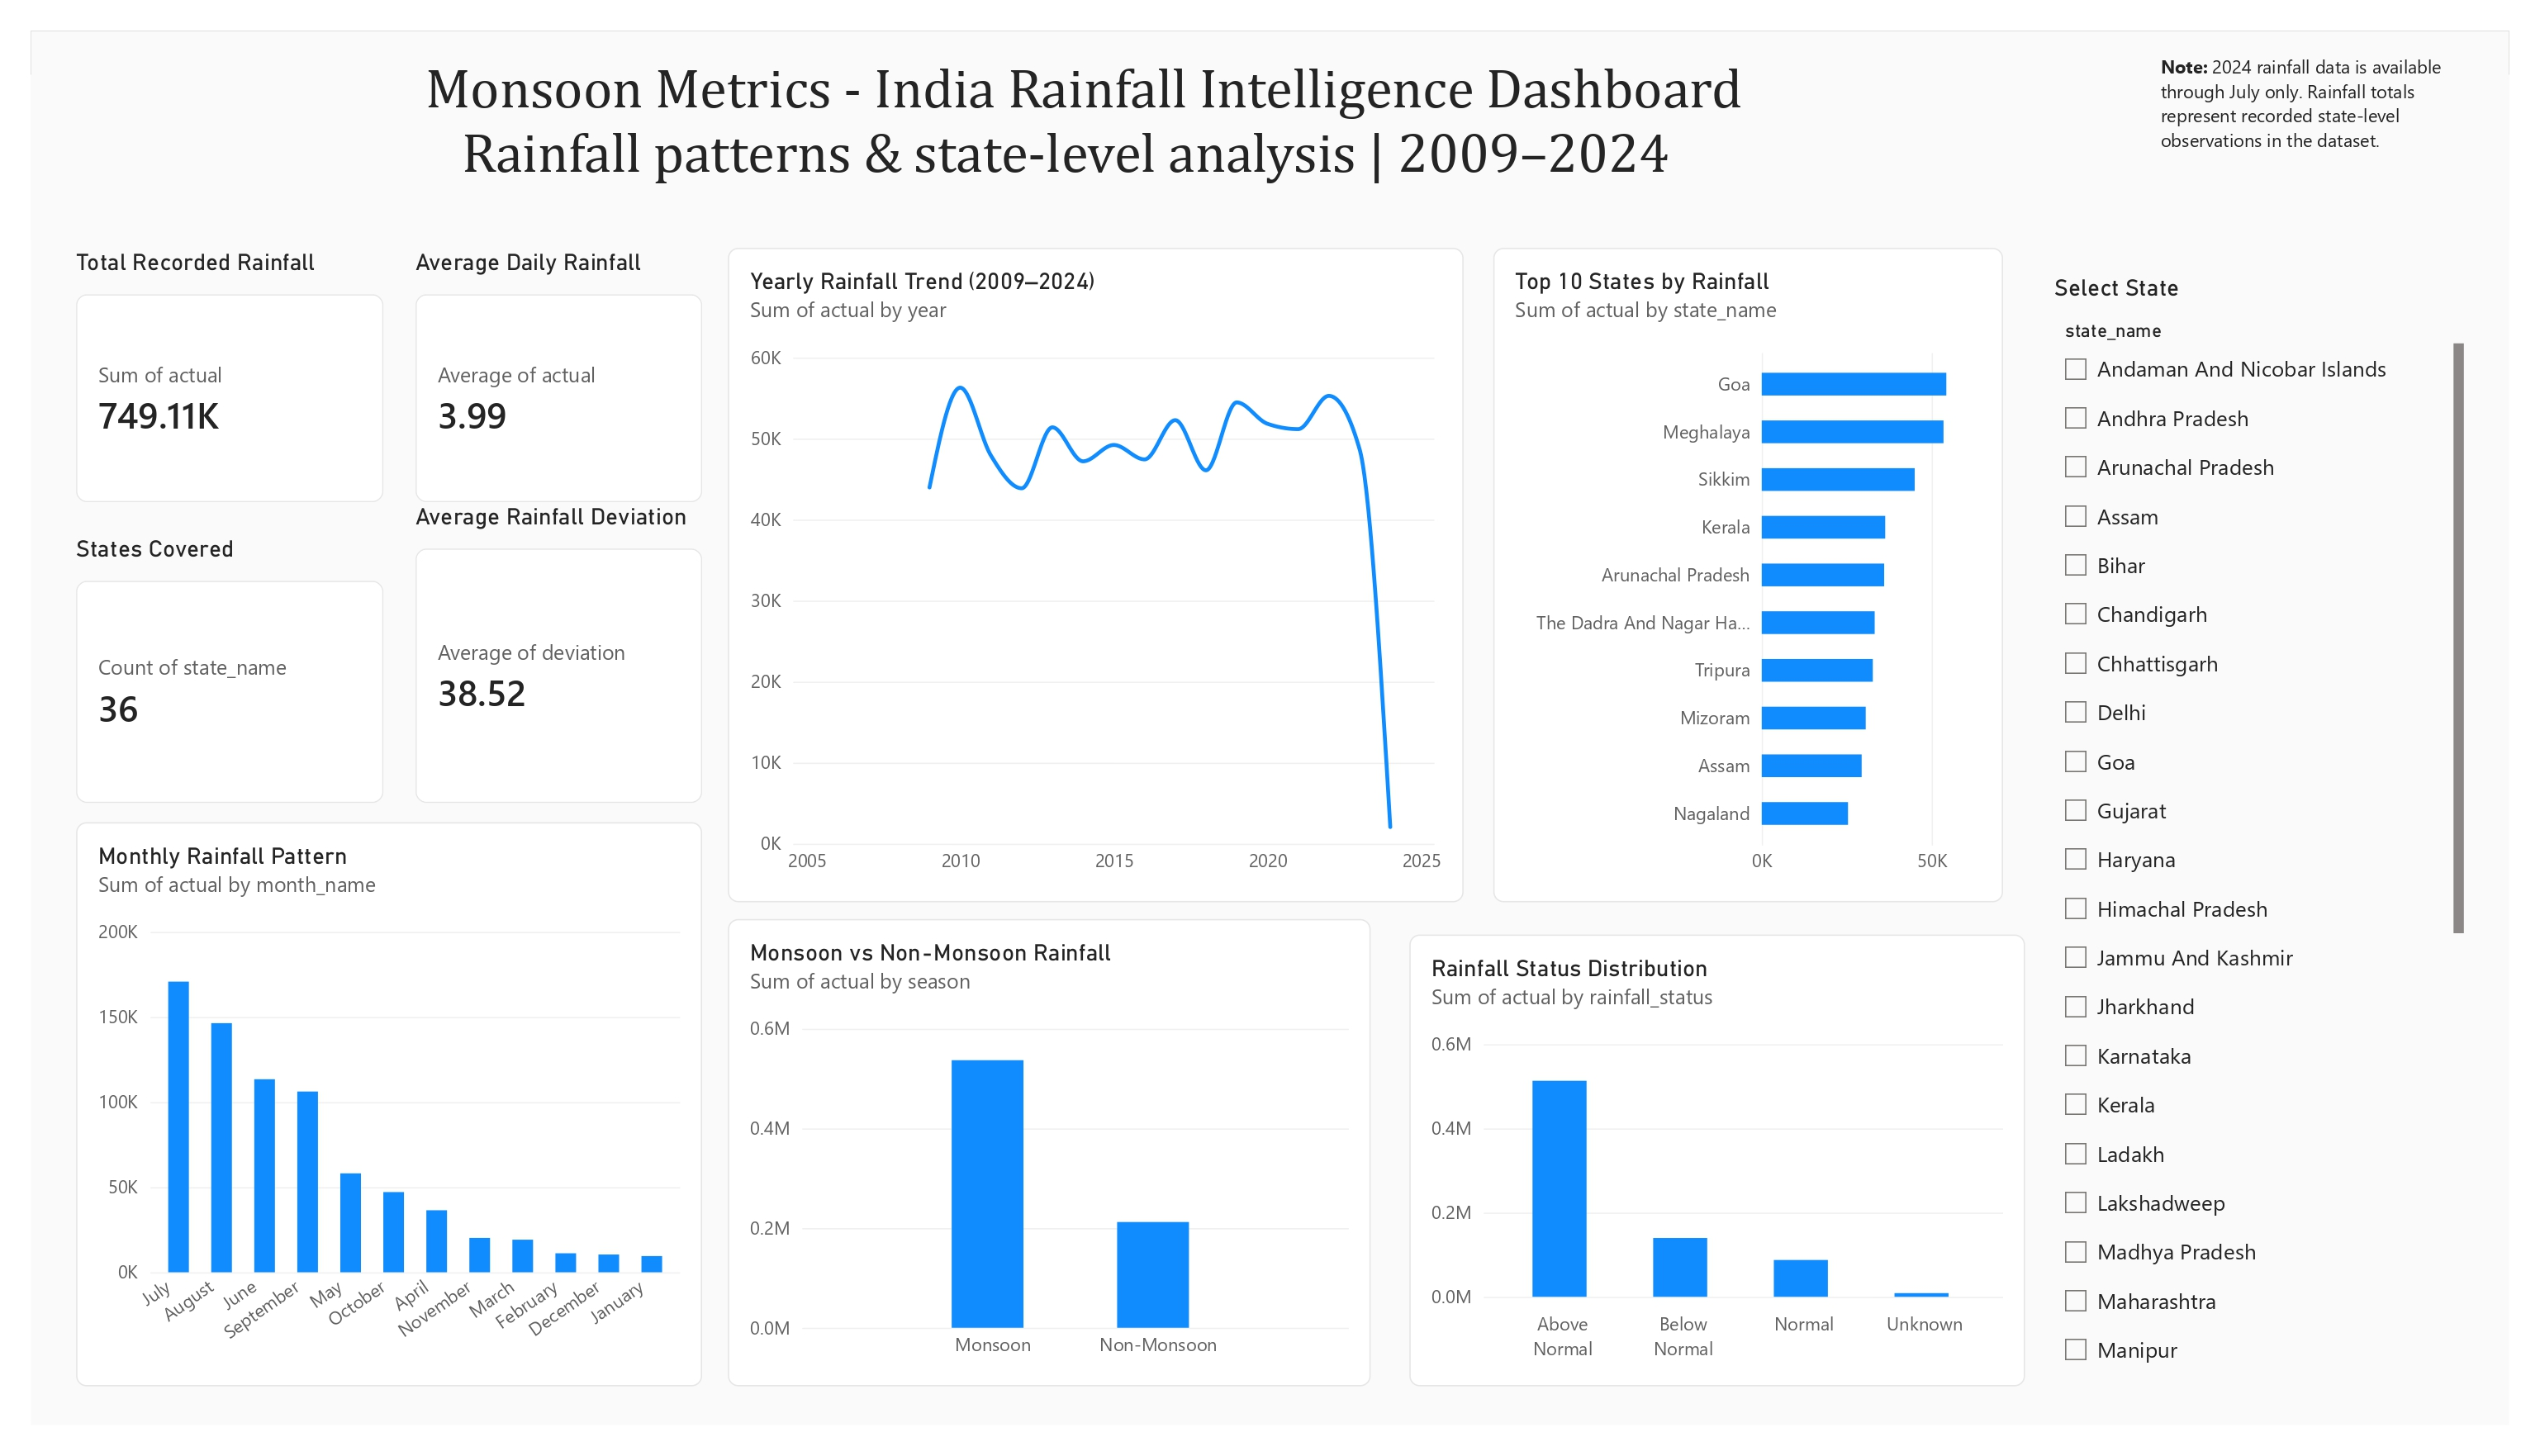

The dashboard page shown, as its layout file describes it:
{"tool":"powerbi","page":{"name":"Page 1","canvas":[1920,1080],"ordinal":0},"visuals":[{"type":"cardVisual","title":"Total Recorded Rainfall","fields":{"Data":["Sum(JalSense_Cleaned_Rainfall.actual)"]},"box":[35,167.5,237.5,197.5],"z":0},{"type":"cardVisual","title":"States Covered","fields":{"Data":["Count(JalSense_Cleaned_Rainfall.state_name)"]},"box":[35,390,237.5,207.5],"z":1000},{"type":"cardVisual","title":"Average Daily Rainfall","fields":{"Data":["Avg(JalSense_Cleaned_Rainfall.actual)"]},"box":[297.5,167.5,222.5,197.5],"z":2000},{"type":"cardVisual","title":"Average Rainfall Deviation","fields":{"Data":["Avg(JalSense_Cleaned_Rainfall.deviation)"]},"box":[297.5,365,222.5,232.5],"z":3000},{"type":"lineChart","title":"Yearly Rainfall Trend (2009–2024)","fields":{"Category":["JalSense_Cleaned_Rainfall.year"],"Y":["Sum(JalSense_Cleaned_Rainfall.actual)"]},"box":[540,167.5,570,507.5],"z":4000},{"type":"clusteredColumnChart","title":"Monthly Rainfall Pattern","fields":{"Category":["JalSense_Cleaned_Rainfall.month_name"],"Y":["Sum(JalSense_Cleaned_Rainfall.actual)"]},"box":[35,612.5,485,437.5],"z":5000},{"type":"clusteredColumnChart","title":"Monsoon vs Non-Monsoon Rainfall","fields":{"Category":["JalSense_Cleaned_Rainfall.season"],"Y":["Sum(JalSense_Cleaned_Rainfall.actual)"]},"box":[540,687.5,497.5,362.5],"z":6000},{"type":"clusteredColumnChart","title":"Rainfall Status Distribution","fields":{"Category":["JalSense_Cleaned_Rainfall.rainfall_status"],"Y":["Sum(JalSense_Cleaned_Rainfall.actual)"]},"box":[1067.5,700,477.5,350],"z":8000},{"type":"slicer","title":"Select State ","fields":{"Values":["JalSense_Cleaned_Rainfall.state_name"]},"box":[1567.5,187.5,317.5,845],"z":9000},{"type":"clusteredBarChart","title":"Top 10 States by Rainfall","fields":{"Category":["JalSense_Cleaned_Rainfall.state_name"],"Y":["Sum(JalSense_Cleaned_Rainfall.actual)"]},"box":[1132.5,167.5,395,507.5],"z":10000},{"type":"textbox","box":[35,17.5,1532.5,120],"z":10002},{"type":"textbox","box":[1650,17.5,235,132.5],"z":10003}]}

Visuals, with their boxes on the page's 1920x1080 design canvas (x1, y1, x2, y2). These are canvas units, not pixel positions in the 2540x1456 screenshot, which may show the page scaled, cropped or inside an application window:
"Total Recorded Rainfall" cardVisual: <region>35, 168, 272, 365</region>
"States Covered" cardVisual: <region>35, 390, 272, 598</region>
"Average Daily Rainfall" cardVisual: <region>298, 168, 520, 365</region>
"Average Rainfall Deviation" cardVisual: <region>298, 365, 520, 598</region>
"Yearly Rainfall Trend (2009–2024)" lineChart: <region>540, 168, 1110, 675</region>
"Monthly Rainfall Pattern" clusteredColumnChart: <region>35, 612, 520, 1050</region>
"Monsoon vs Non-Monsoon Rainfall" clusteredColumnChart: <region>540, 688, 1038, 1050</region>
"Rainfall Status Distribution" clusteredColumnChart: <region>1068, 700, 1545, 1050</region>
"Select State " slicer: <region>1568, 188, 1885, 1032</region>
"Top 10 States by Rainfall" clusteredBarChart: <region>1132, 168, 1528, 675</region>
textbox: <region>35, 18, 1568, 138</region>
textbox: <region>1650, 18, 1885, 150</region>
